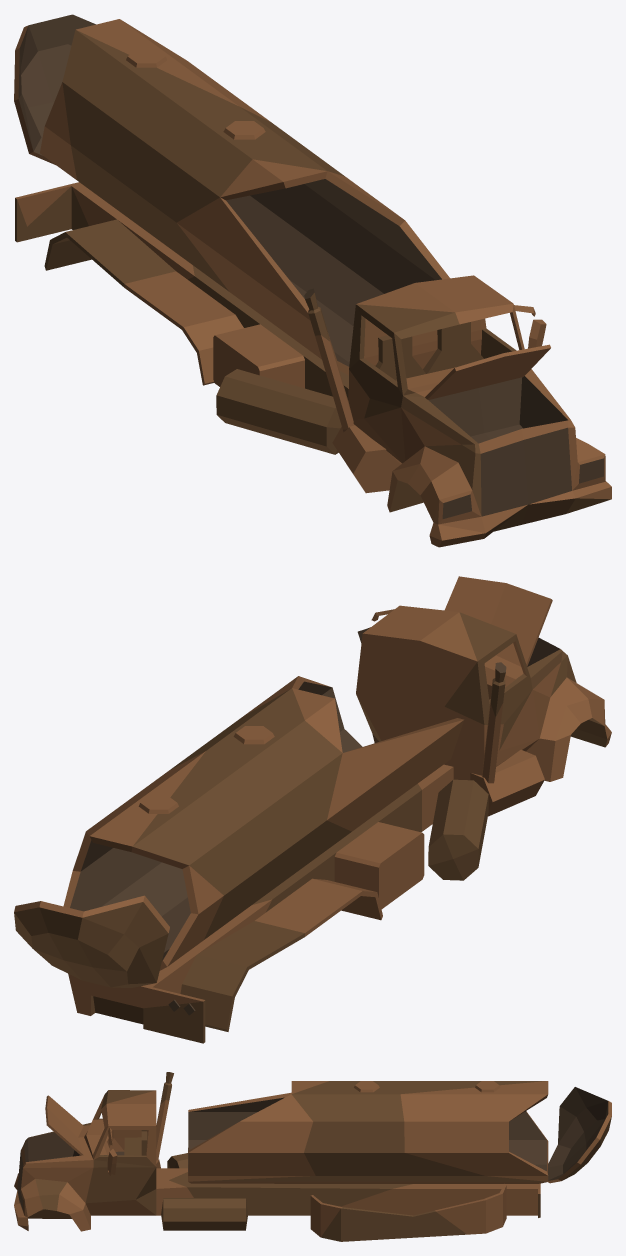
File: apocalypse-car-truck-tanker-destroyed-apocalypse.glb
3 renders of one model, top to bottom at view 1: azimuth 30°, elevation 25°; view 2: azimuth 150°, elevation 25°; view 3: azimuth 270°, elevation 25°, orthographic. The views are drawn at different scales.
Visible parts, largest first — view 1: car-truck-tanker-destroyed-apocalypse; view 2: car-truck-tanker-destroyed-apocalypse; view 3: car-truck-tanker-destroyed-apocalypse.
Boxes of the visible parts, x1,y1,x2,y2 form: car-truck-tanker-destroyed-apocalypse: (14,14,611,547); car-truck-tanker-destroyed-apocalypse: (14,576,611,1043); car-truck-tanker-destroyed-apocalypse: (14,1072,611,1241).
Size of the model in its own units: 3.5 by 2.75 by 11.73.
